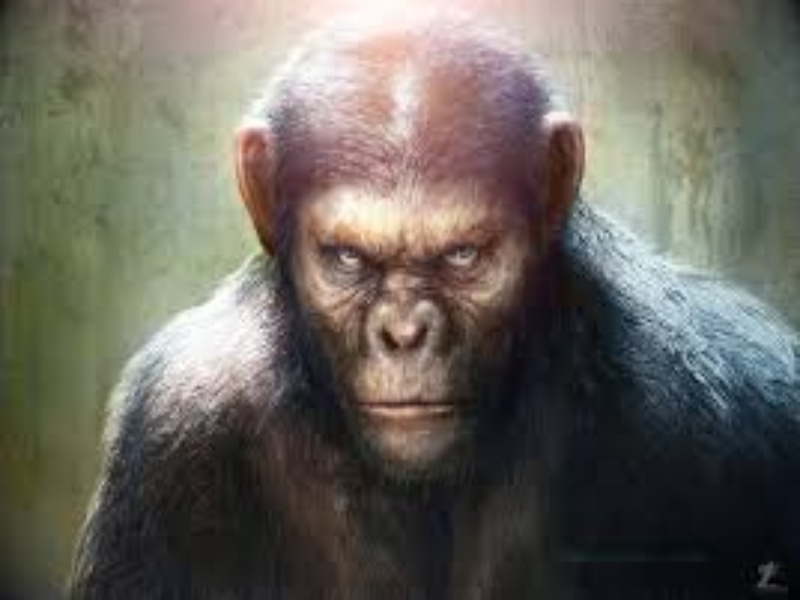monkey: (197, 19, 795, 600)
